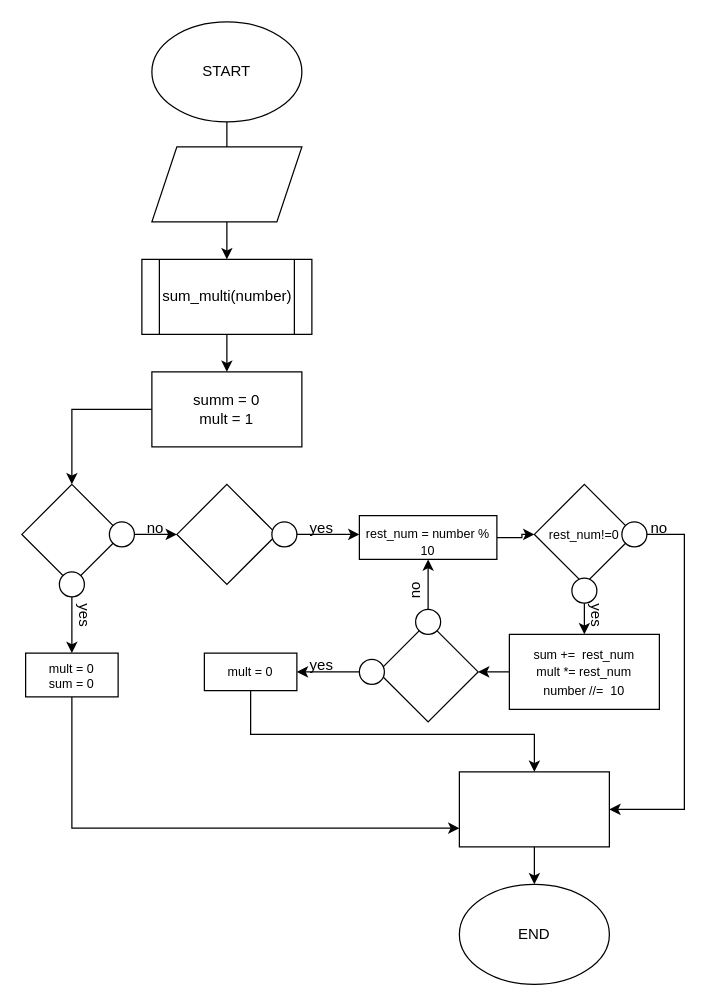
Image size: 719x1006. Some labels were removed from this diagram. Each missing label, with the box of its shape:
number=0: (21, 483, 122, 584)
number>0: (176, 483, 277, 584)
print sum, mult: (458, 771, 609, 847)
rest_num==0: (377, 621, 478, 722)
Трехзначное число: (151, 146, 302, 222)
